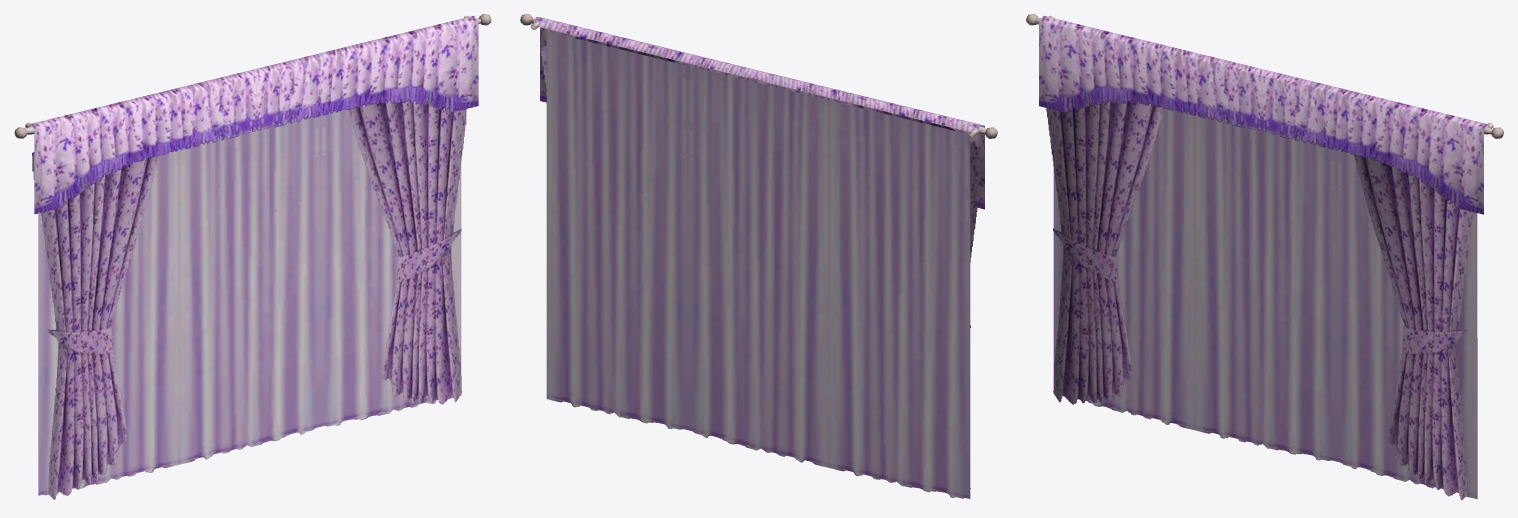
The model's file is furni_0200529_03.FBX.
The picture shows the model from 3 angles, left to right: view 1: azimuth 30°, elevation 25°; view 2: azimuth 150°, elevation 25°; view 3: azimuth 330°, elevation 25°; orthographic projection.
Visible parts, largest first — view 1: furni_0200529_03; view 2: furni_0200529_03; view 3: furni_0200529_03.
Part boxes in pixels (bbox=[...]): furni_0200529_03: bbox=[14, 14, 491, 499]; furni_0200529_03: bbox=[520, 14, 997, 498]; furni_0200529_03: bbox=[1026, 14, 1503, 500].
Bounding box in the file's own units: 353 × 269 × 12.49.
Materials: 2 (2 with a texture image).
